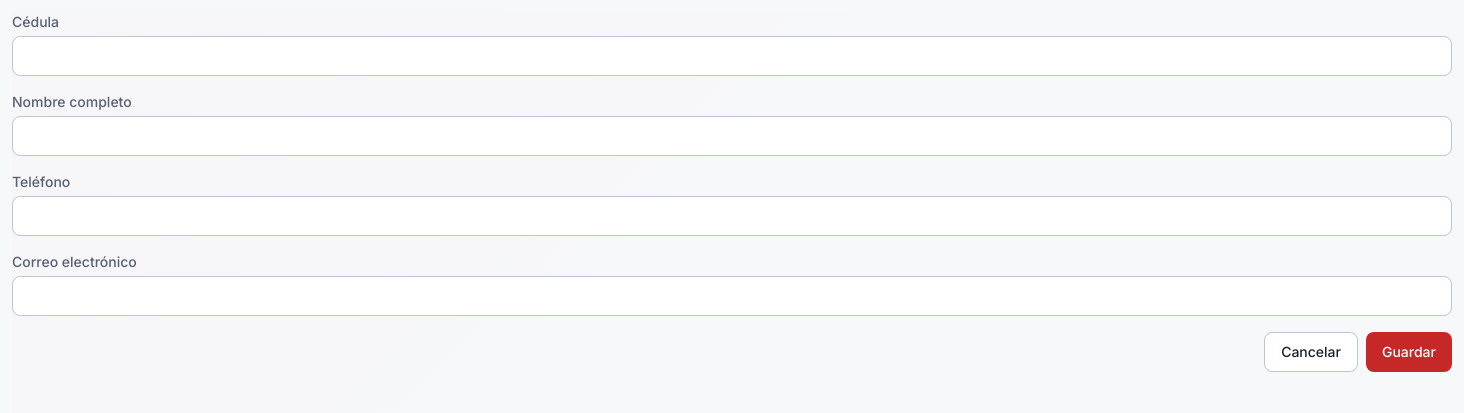
Scenario: InstructorForm › muestra junto al teléfono que necesita al menos 7 dígitos
Type "1710034065" into the field labelled "Cédula" at {"x": 732, "y": 56}, box x1=12 y1=36 x2=1452 y2=76
Type "Bruno Salas" into the field labelled "Nombre completo" at {"x": 732, "y": 136}, box x1=12 y1=116 x2=1452 y2=156
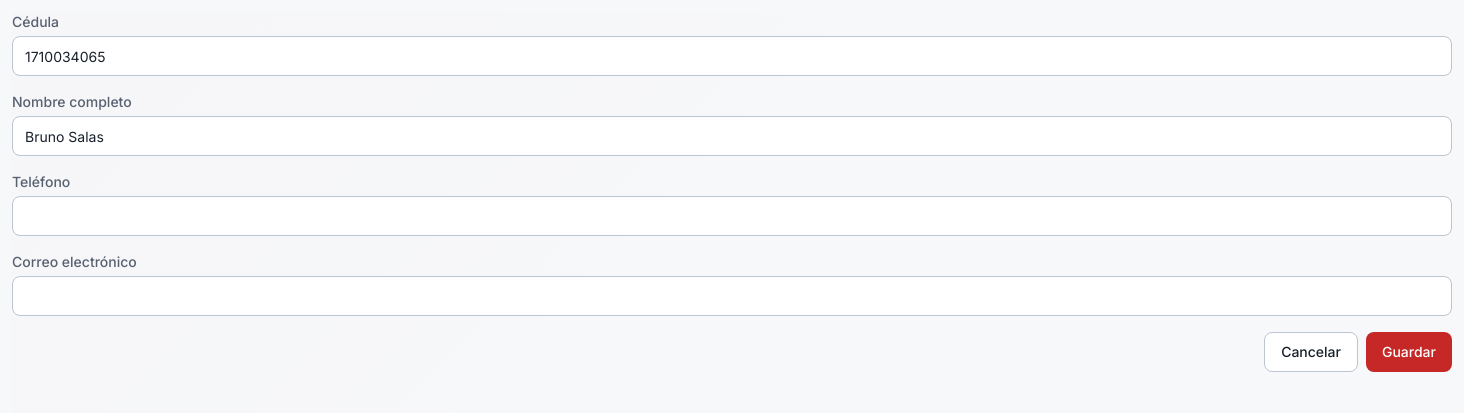
Type "0991234567" into the field labelled "Teléfono" at {"x": 732, "y": 216}, box x1=12 y1=196 x2=1452 y2=236
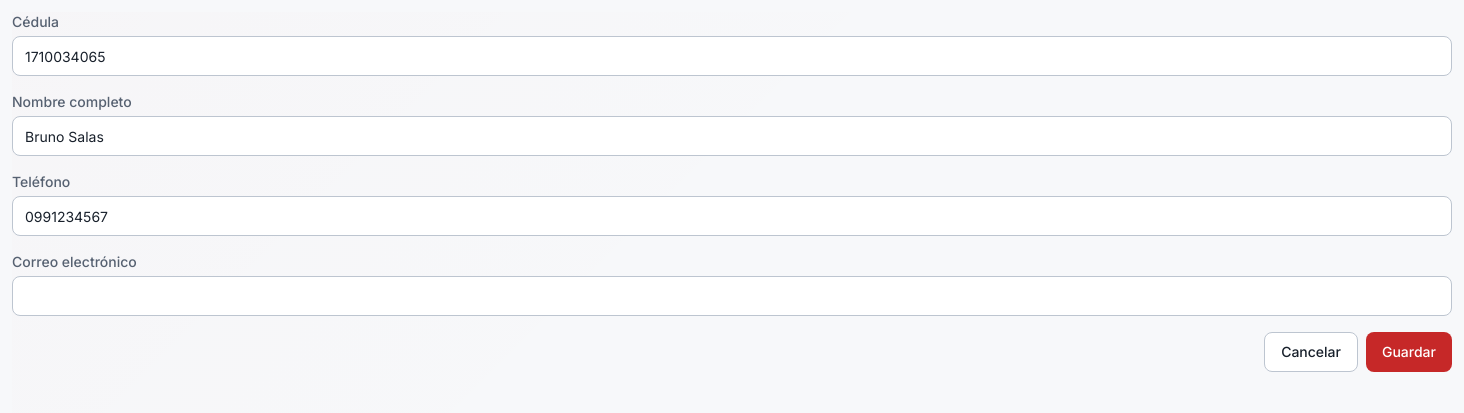
Type "bruno@example.com" into the field labelled "Correo electrónico" at {"x": 732, "y": 296}, box x1=12 y1=276 x2=1452 y2=316
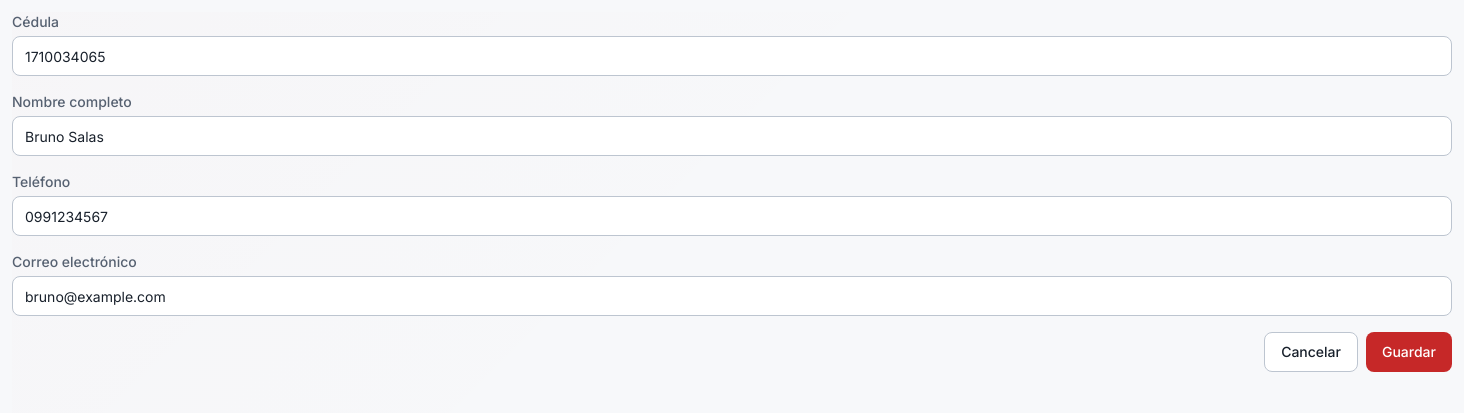
Replace the text in the field labelled "Teléfono" with "((((((((" at {"x": 732, "y": 216}, box x1=12 y1=196 x2=1452 y2=236
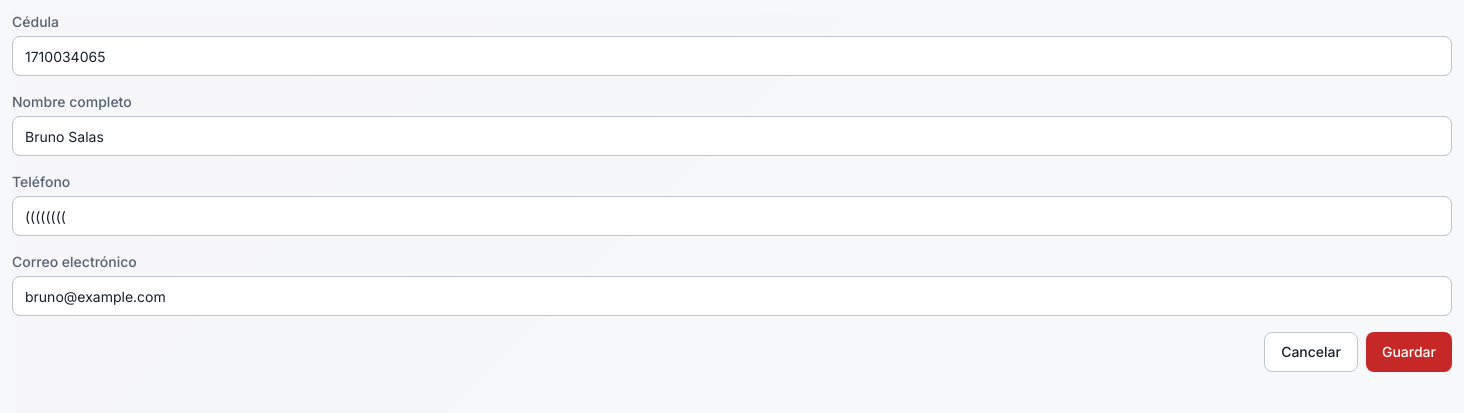
Submit the form "Guardar"
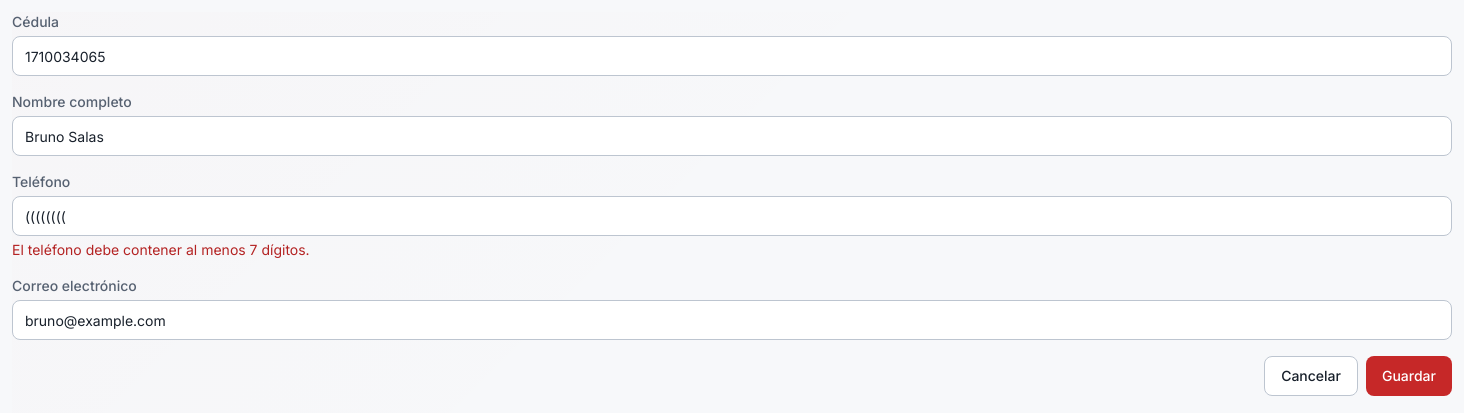
Now the message reads "El teléfono debe contener al menos 7 dígitos.", box x1=12 y1=241 x2=310 y2=258
Now the number of messages is 1, box x1=12 y1=241 x2=310 y2=258
Replace the text in the field labelled "Teléfono" with "0991234567" at {"x": 732, "y": 216}, box x1=12 y1=196 x2=1452 y2=236
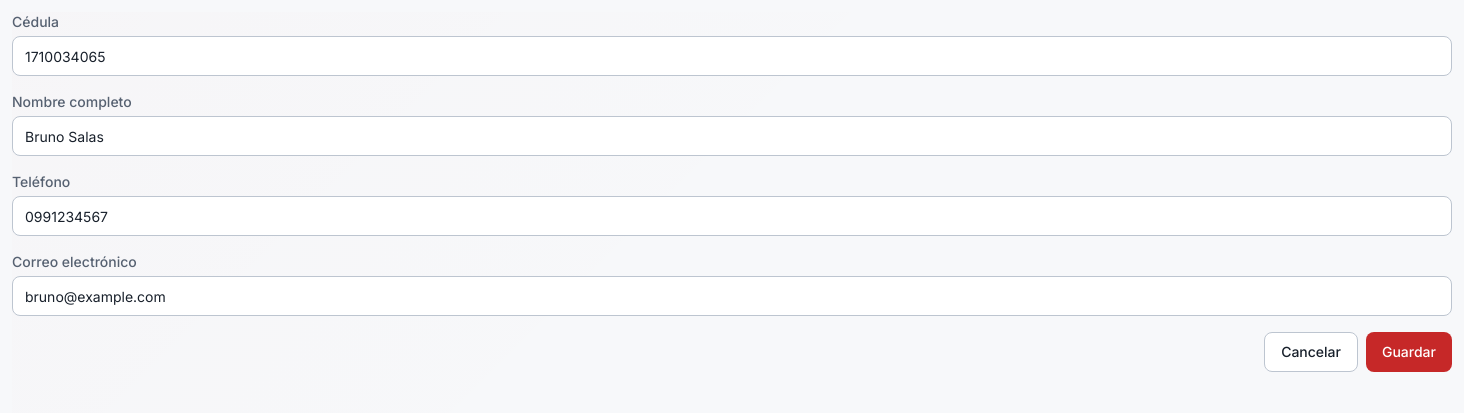
Now the message "El teléfono debe contener al menos 7 dígitos." is gone
